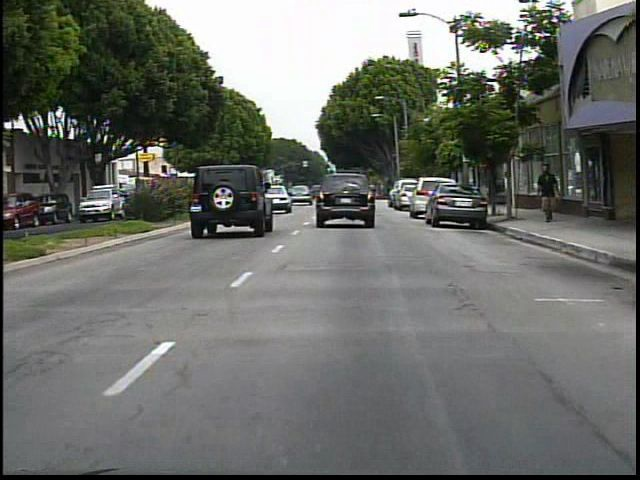person: (532, 163, 561, 227)
